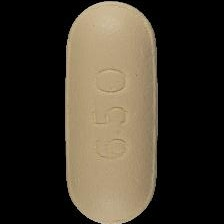50458-650: (0, 0, 224, 224)
